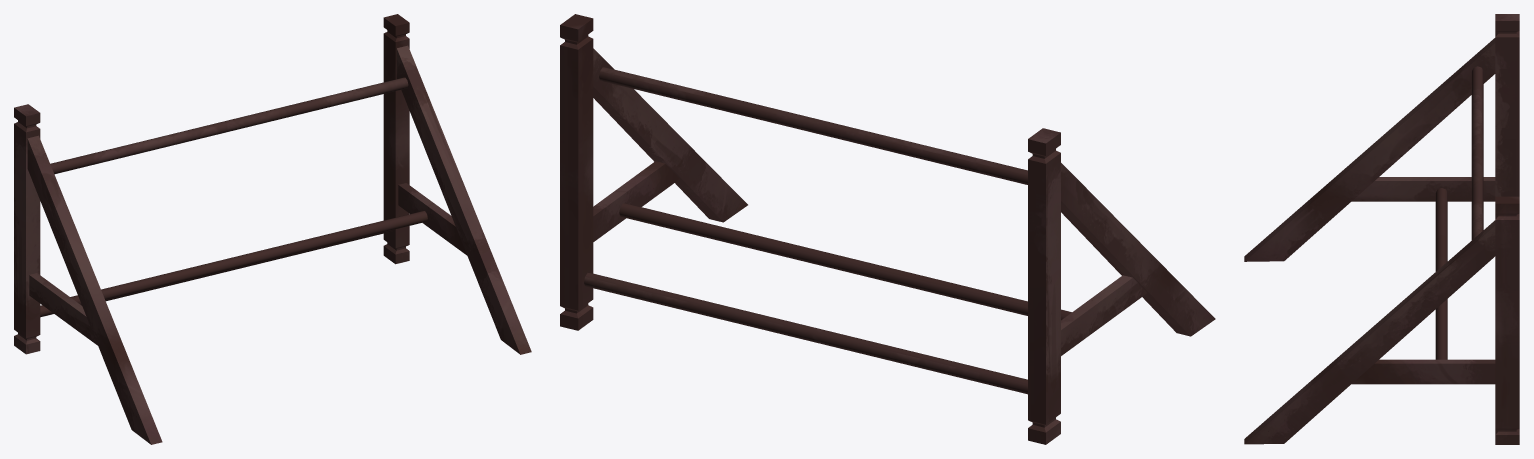
File: SM_Suporte_Armas.fbx
3 renders of one model, left to right at view 1: azimuth 30°, elevation 25°; view 2: azimuth 150°, elevation 25°; view 3: azimuth 270°, elevation 25°, orthographic. The views are drawn at different scales.
Visible parts, largest first — view 1: SM_Suporte_Armas; view 2: SM_Suporte_Armas; view 3: SM_Suporte_Armas.
Part boxes in pixels (x1=…): SM_Suporte_Armas: x1=14, y1=14, x2=531, y2=444; SM_Suporte_Armas: x1=560, y1=14, x2=1215, y2=444; SM_Suporte_Armas: x1=1244, y1=14, x2=1519, y2=444.
Size of the model in its own units: 30.94 by 18.37 by 18.96.
